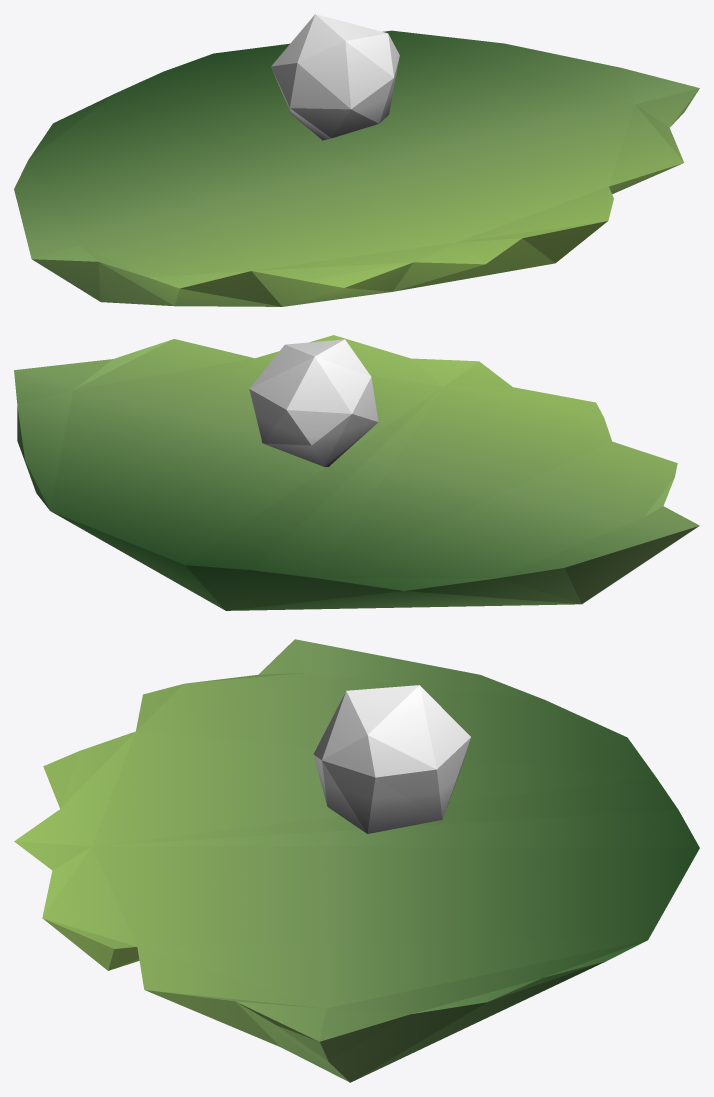
The model's file is SM_Shell_3.fbx.
3 renders of one model, top to bottom at view 1: azimuth 30°, elevation 25°; view 2: azimuth 150°, elevation 25°; view 3: azimuth 270°, elevation 25°, orthographic. The views are drawn at different scales.
Parts seen in each view (by area): view 1: Shell_3; view 2: Shell_3; view 3: Shell_3.
Boxes of the visible parts, x1=… form: Shell_3: x1=14, y1=14, x2=699, y2=306; Shell_3: x1=14, y1=335, x2=699, y2=610; Shell_3: x1=14, y1=639, x2=699, y2=1082.
Bounding box in the file's own units: 32.48 × 9.74 × 23.53.
